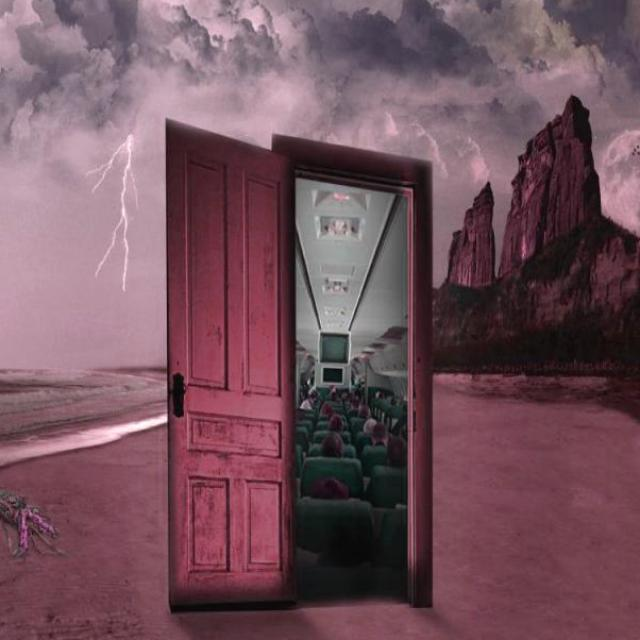Door: (165, 117, 297, 610)
